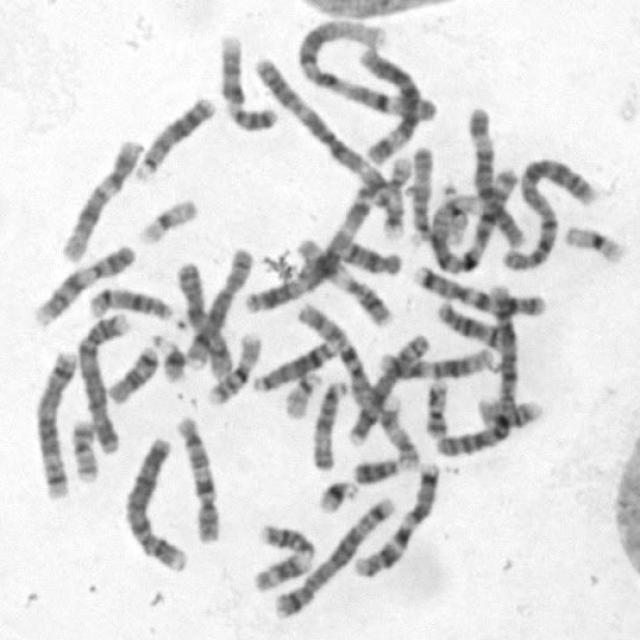A1: (296, 20, 437, 121), (428, 167, 520, 274)
A2: (435, 283, 519, 456), (502, 157, 600, 269)
A3: (255, 59, 404, 220), (244, 185, 378, 314)
B4: (125, 439, 188, 572), (77, 311, 132, 456)
B5: (274, 497, 396, 620), (36, 351, 80, 499)
C10: (296, 301, 378, 408), (296, 237, 392, 326)
C11: (175, 418, 219, 542), (254, 522, 316, 590)
C12: (61, 138, 145, 264), (378, 346, 495, 379)
C6: (466, 106, 525, 248), (357, 46, 421, 166)
C7: (353, 461, 440, 577), (412, 264, 546, 316)
C8: (348, 332, 431, 446), (187, 247, 256, 370)
C9: (34, 245, 136, 326), (218, 35, 277, 132)
D13: (133, 96, 218, 180), (251, 340, 340, 393)
D14: (437, 300, 503, 351), (88, 287, 174, 321)
D15: (312, 379, 349, 471), (407, 144, 434, 250)
E16: (207, 332, 262, 404), (477, 399, 542, 429)
E17: (378, 395, 420, 471), (383, 154, 412, 240)
E18: (107, 346, 159, 403), (342, 242, 401, 276)
F19: (138, 199, 199, 243), (562, 226, 626, 265)
F20: (70, 420, 98, 482), (424, 381, 448, 438)
G21: (150, 335, 187, 383), (319, 479, 360, 513)
G22: (284, 372, 324, 419), (442, 182, 468, 247)
X: (176, 262, 233, 378)
Y: (352, 457, 399, 486)
